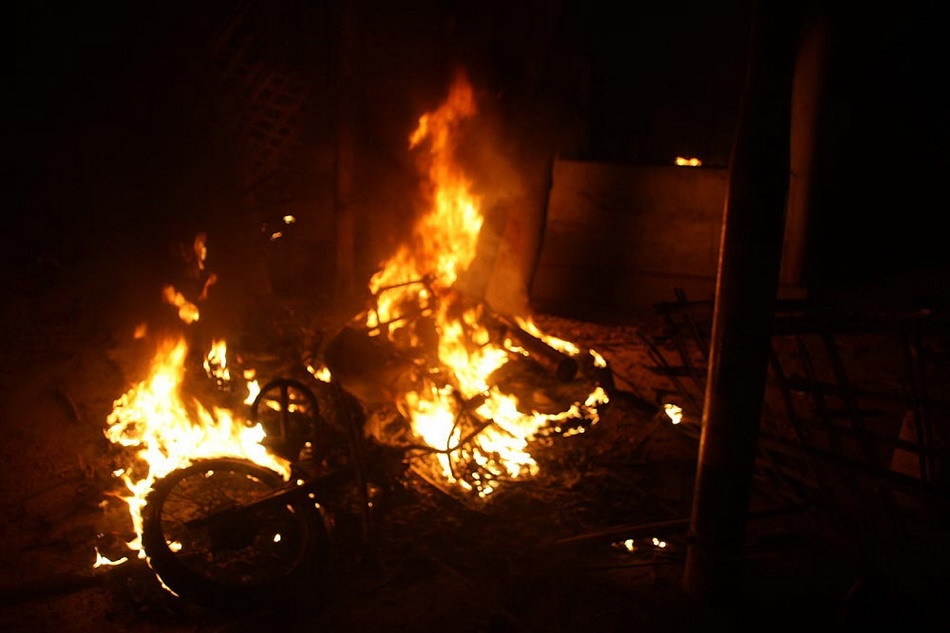fire: (353, 84, 643, 497), (86, 223, 298, 518)
